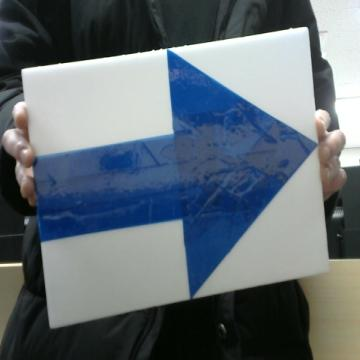blue_right: (35, 50, 316, 297)
